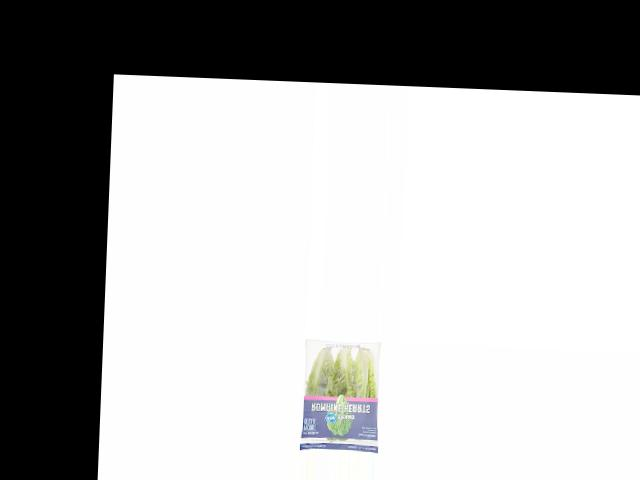lettuce: (296, 342, 385, 451)
